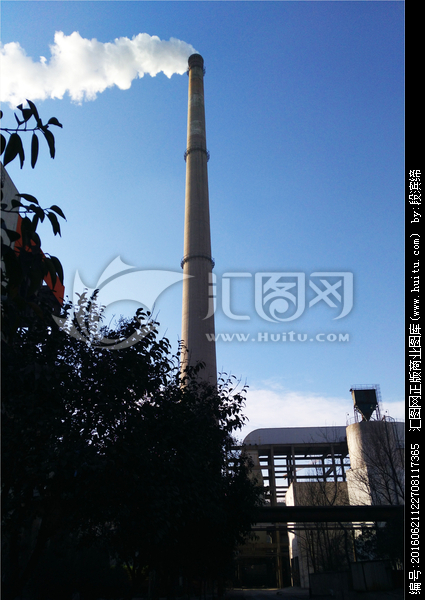dust: (10, 18, 236, 100)
